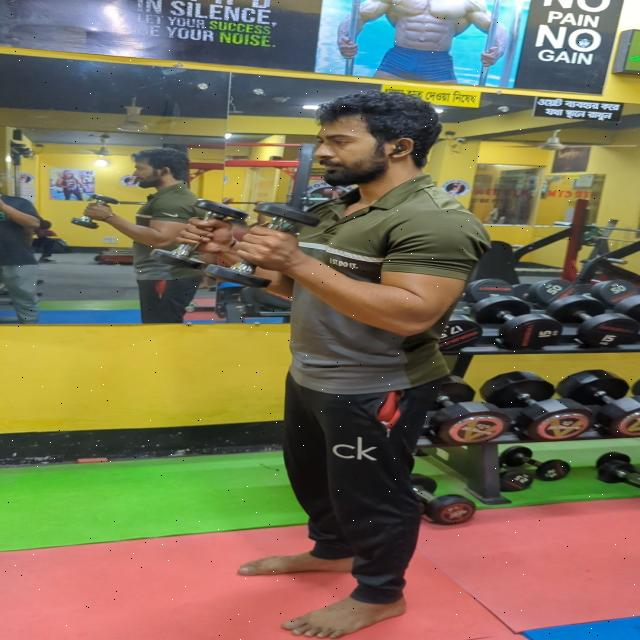Normal_DumbbellBicepCurls: (156, 80, 573, 640)
